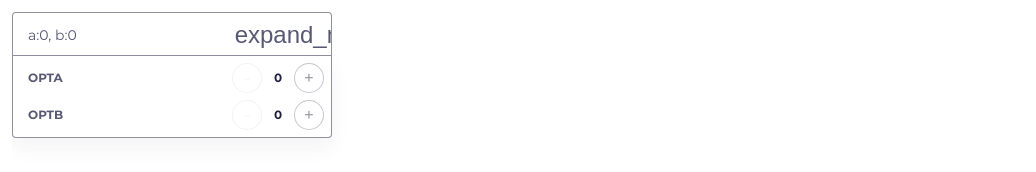
Test: Dropdown › expansion behavior › should close when clicked outside the dropdown
This screenshot has width=1036, height=172.
Press the mouse on the element showing "a:0, b:0 optA - 0 + optB - 0 +" at (524, 34), box [12, 12, 1035, 56]
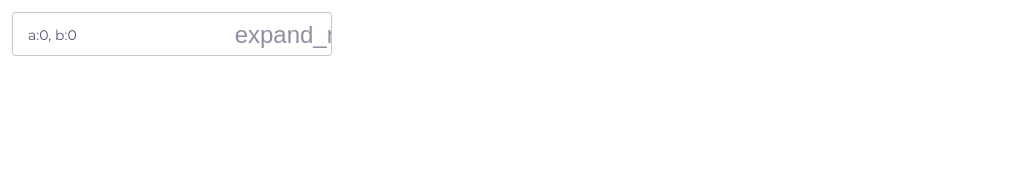
Now the text labelled "optA" is gone
